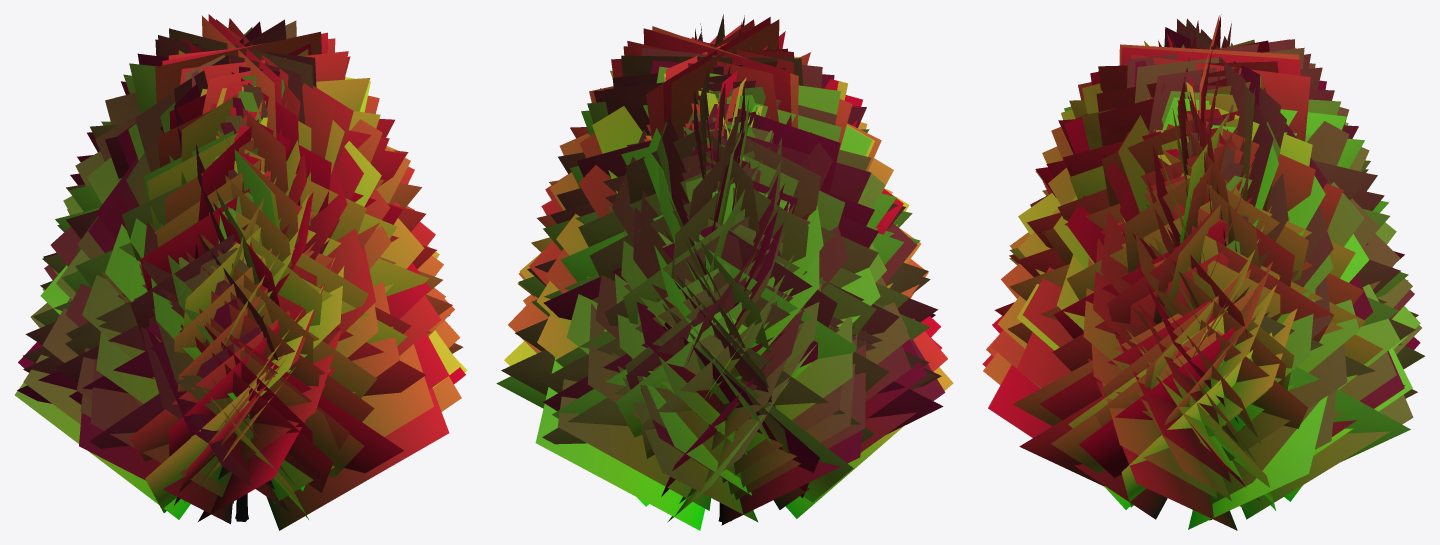
Rendered from URP_P4_Tree_1_LOD_1.fbx.
3 renders of one model, left to right at view 1: azimuth 30°, elevation 25°; view 2: azimuth 150°, elevation 25°; view 3: azimuth 270°, elevation 25°, orthographic.
Visible parts, largest first — view 1: Tree_1_LOD_1; view 2: Tree_1_LOD_1; view 3: Tree_1_LOD_1.
Part boxes in pixels (<box>): Tree_1_LOD_1: <box>14,14,467,530</box>; Tree_1_LOD_1: <box>496,14,953,530</box>; Tree_1_LOD_1: <box>982,14,1424,530</box>.
Bounding box in the file's own units: 209 × 245 × 209.
